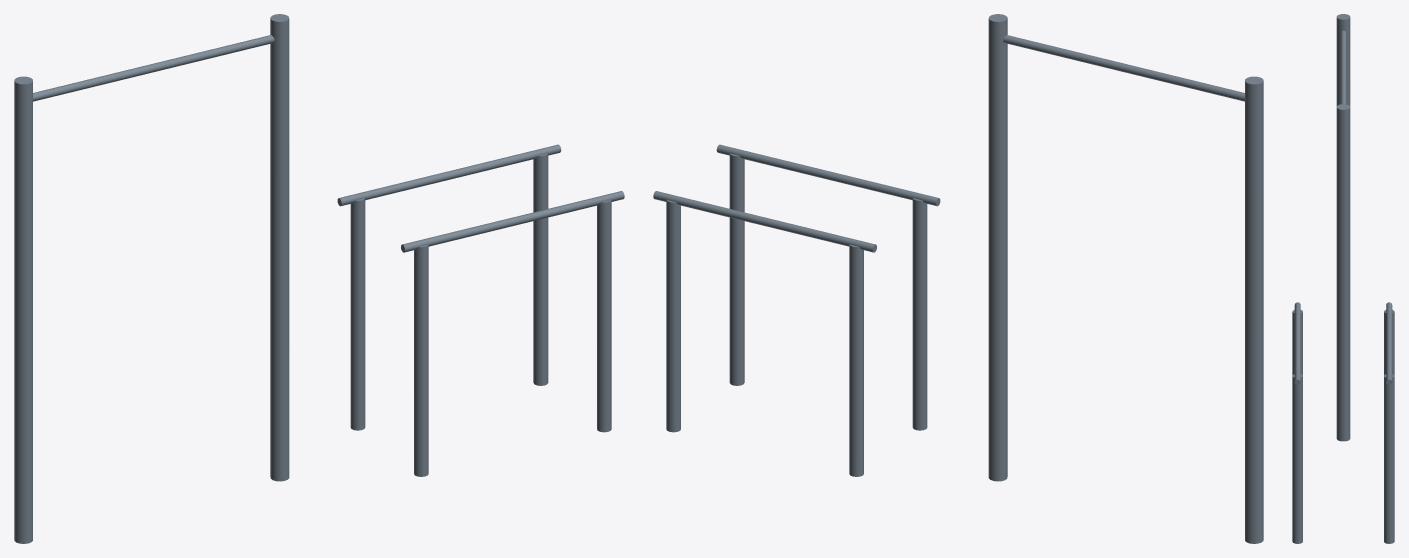
Rendered from prs-013.glb.
The picture shows the model from 3 angles, left to right: view 1: azimuth 30°, elevation 25°; view 2: azimuth 150°, elevation 25°; view 3: azimuth 270°, elevation 25°; orthographic projection. The views are drawn at different scales.
Visible parts, largest first — view 1: pull_up_post_2, pull_up_post_1, dip_post_1_1, dip_post_1_2, dip_post_2_2, dip_post_2_1, pull_up_bar, dip_bar_1, dip_bar_2; view 2: pull_up_post_2, pull_up_post_1, dip_post_2_1, dip_post_2_2, dip_post_1_2, dip_post_1_1, pull_up_bar, dip_bar_2, dip_bar_1; view 3: pull_up_post_2, dip_post_1_2, dip_post_2_2, pull_up_post_1, dip_bar_1, dip_bar_2, pull_up_bar, dip_post_1_1, dip_post_2_1.
Boxes of the visible parts, x1=… form: pull_up_post_2: x1=270, y1=14, x2=289, y2=481; pull_up_post_1: x1=14, y1=76, x2=32, y2=543; dip_post_1_1: x1=350, y1=198, x2=365, y2=430; dip_post_1_2: x1=533, y1=153, x2=548, y2=385; dip_post_2_2: x1=597, y1=200, x2=611, y2=432; dip_post_2_1: x1=414, y1=244, x2=428, y2=476; pull_up_bar: x1=33, y1=35, x2=274, y2=101; dip_bar_1: x1=337, y1=144, x2=561, y2=206; dip_bar_2: x1=401, y1=191, x2=624, y2=252; pull_up_post_2: x1=988, y1=14, x2=1007, y2=481; pull_up_post_1: x1=1245, y1=76, x2=1263, y2=543; dip_post_2_1: x1=912, y1=198, x2=927, y2=430; dip_post_2_2: x1=729, y1=153, x2=744, y2=385; dip_post_1_2: x1=666, y1=200, x2=680, y2=432; dip_post_1_1: x1=849, y1=244, x2=863, y2=476; pull_up_bar: x1=1003, y1=35, x2=1244, y2=101; dip_bar_2: x1=716, y1=144, x2=940, y2=206; dip_bar_1: x1=653, y1=191, x2=876, y2=252; pull_up_post_2: x1=1336, y1=104, x2=1350, y2=441; dip_post_1_2: x1=1384, y1=374, x2=1394, y2=543; dip_post_2_2: x1=1292, y1=374, x2=1302, y2=543; pull_up_post_1: x1=1336, y1=14, x2=1350, y2=106; dip_bar_1: x1=1386, y1=302, x2=1392, y2=384; dip_bar_2: x1=1294, y1=302, x2=1300, y2=384; pull_up_bar: x1=1340, y1=30, x2=1346, y2=104; dip_post_1_1: x1=1384, y1=310, x2=1394, y2=375; dip_post_2_1: x1=1292, y1=310, x2=1302, y2=375.
Bounding box in the file's own units: 3.14 × 2.4 × 0.67.
